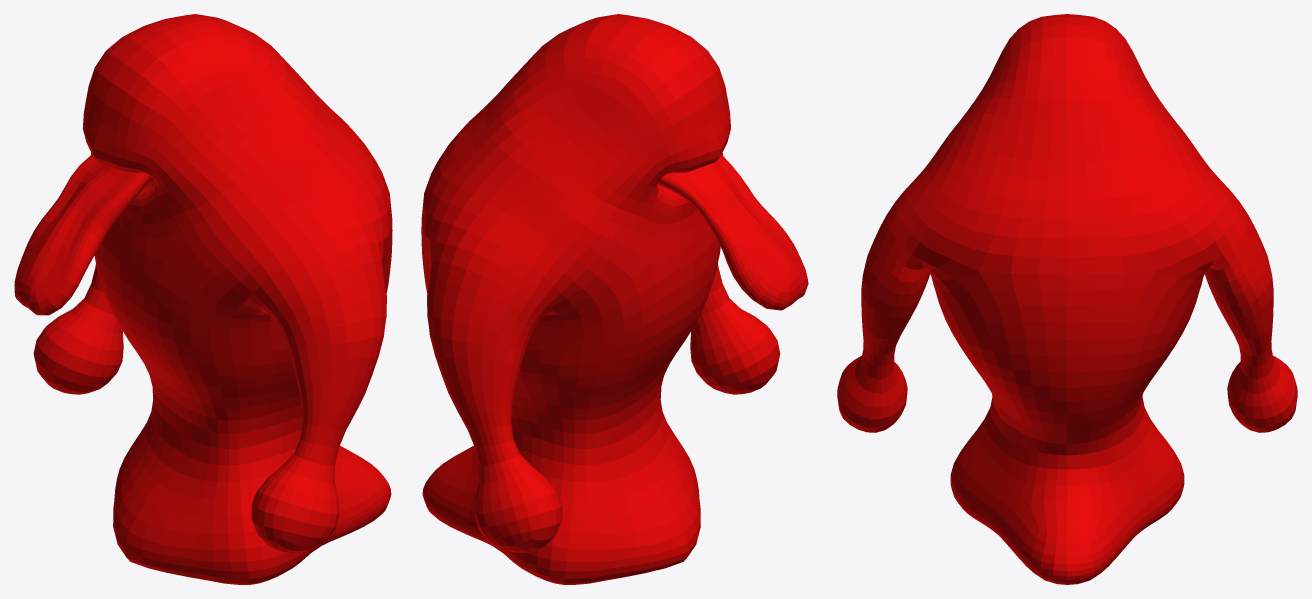
File: Enemigo.fbx
The picture shows the model from 3 angles, left to right: view 1: azimuth 30°, elevation 25°; view 2: azimuth 150°, elevation 25°; view 3: azimuth 270°, elevation 25°; orthographic projection. The views are drawn at different scales.
Parts seen in each view (by area): view 1: enemigo; view 2: enemigo; view 3: enemigo.
Part boxes in pixels (x1,y1,x2,y2): enemigo: (14, 14, 392, 584); enemigo: (421, 14, 808, 584); enemigo: (837, 14, 1297, 584).
Size of the model in its own units: 1.41 by 1.94 by 1.69.
